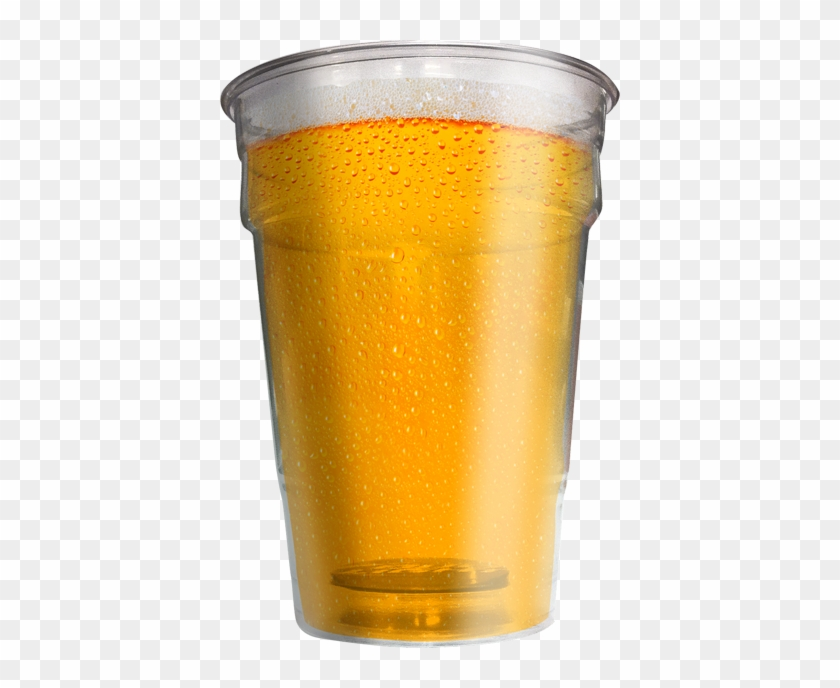plastic_glass: (202, 28, 634, 664)
